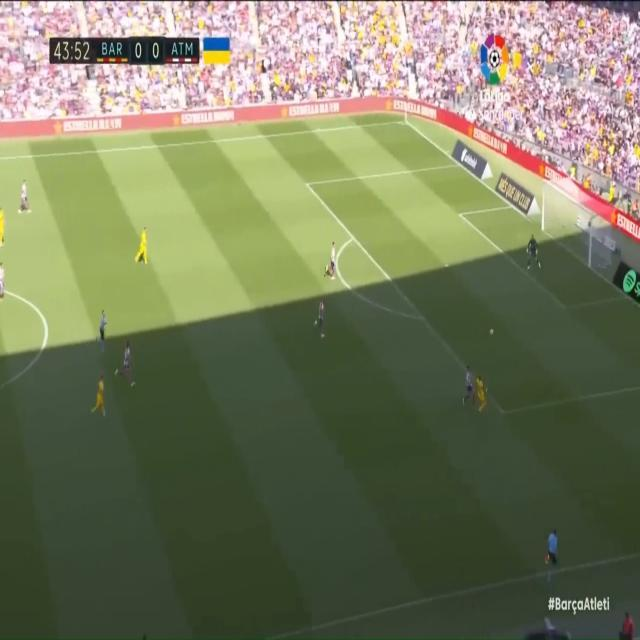ball: (483, 325, 495, 344)
goalkeeper: (526, 232, 542, 275)
player: (133, 227, 159, 272), (118, 344, 136, 393), (310, 294, 330, 338), (458, 365, 476, 410), (92, 372, 108, 415), (473, 376, 490, 414), (327, 237, 339, 282), (19, 182, 34, 215), (0, 256, 8, 305), (0, 203, 7, 249)
referee: (544, 531, 566, 580), (96, 307, 108, 351)
